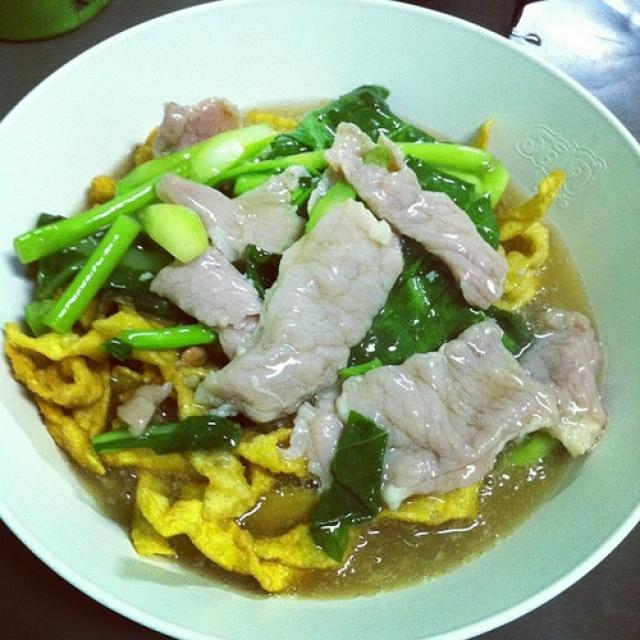面条主食: (18, 23, 626, 631)
